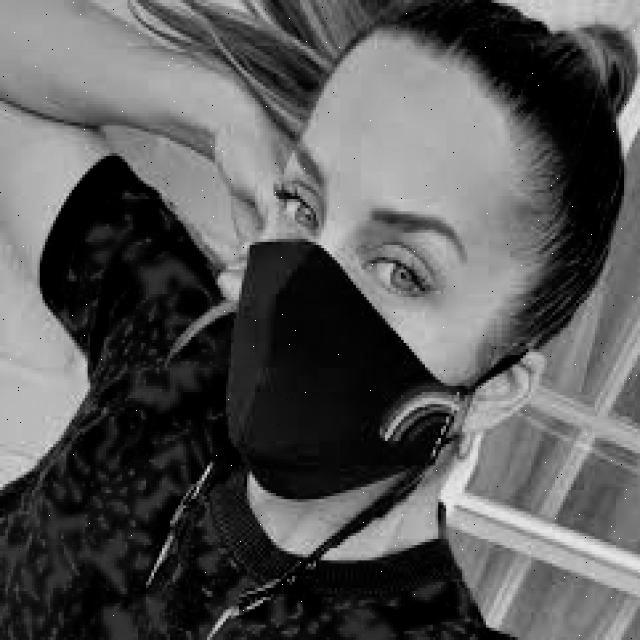fake: (222, 240, 479, 512)
real: (223, 36, 535, 514)
